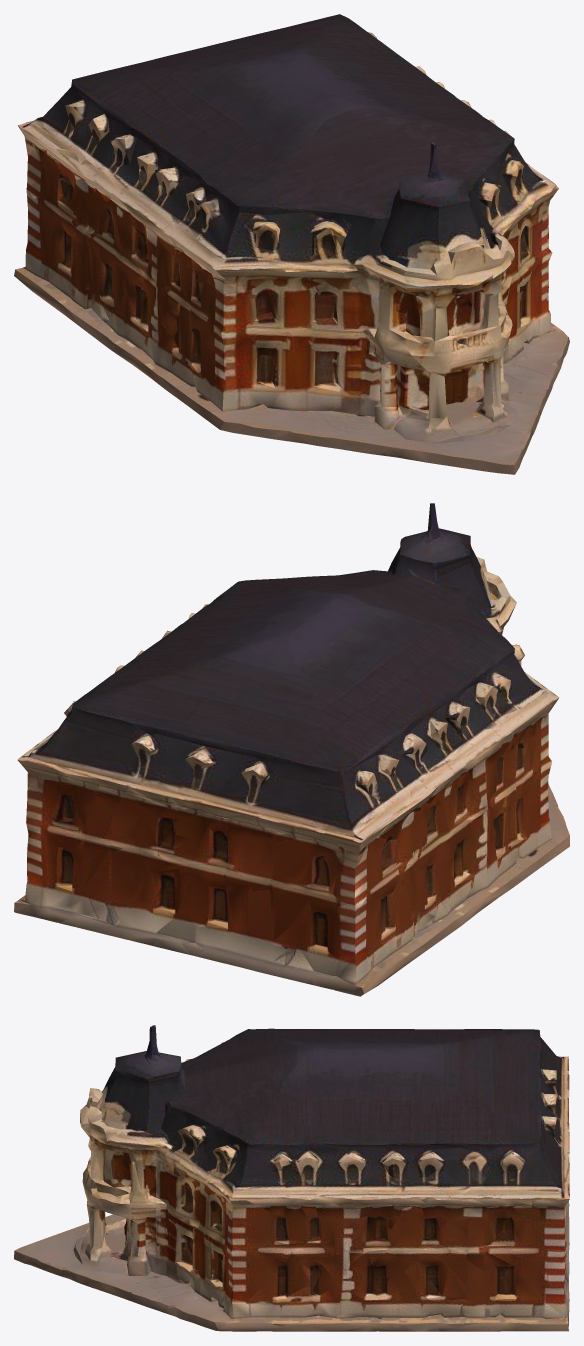
File: taichung-prefectural-hall.glb
3 renders of one model, top to bottom at view 1: azimuth 30°, elevation 25°; view 2: azimuth 150°, elevation 25°; view 3: azimuth 270°, elevation 25°, orthographic. The views are drawn at different scales.
Visible parts, largest first — view 1: logan-textured.obj; view 2: logan-textured.obj; view 3: logan-textured.obj.
Part boxes in pixels (<box>): logan-textured.obj: <box>14,14,569,474</box>; logan-textured.obj: <box>14,503,569,996</box>; logan-textured.obj: <box>14,1025,569,1331</box>.
Size of the model in its own units: 0.6221 by 0.4643 by 1.
1 material, 1 textured.
